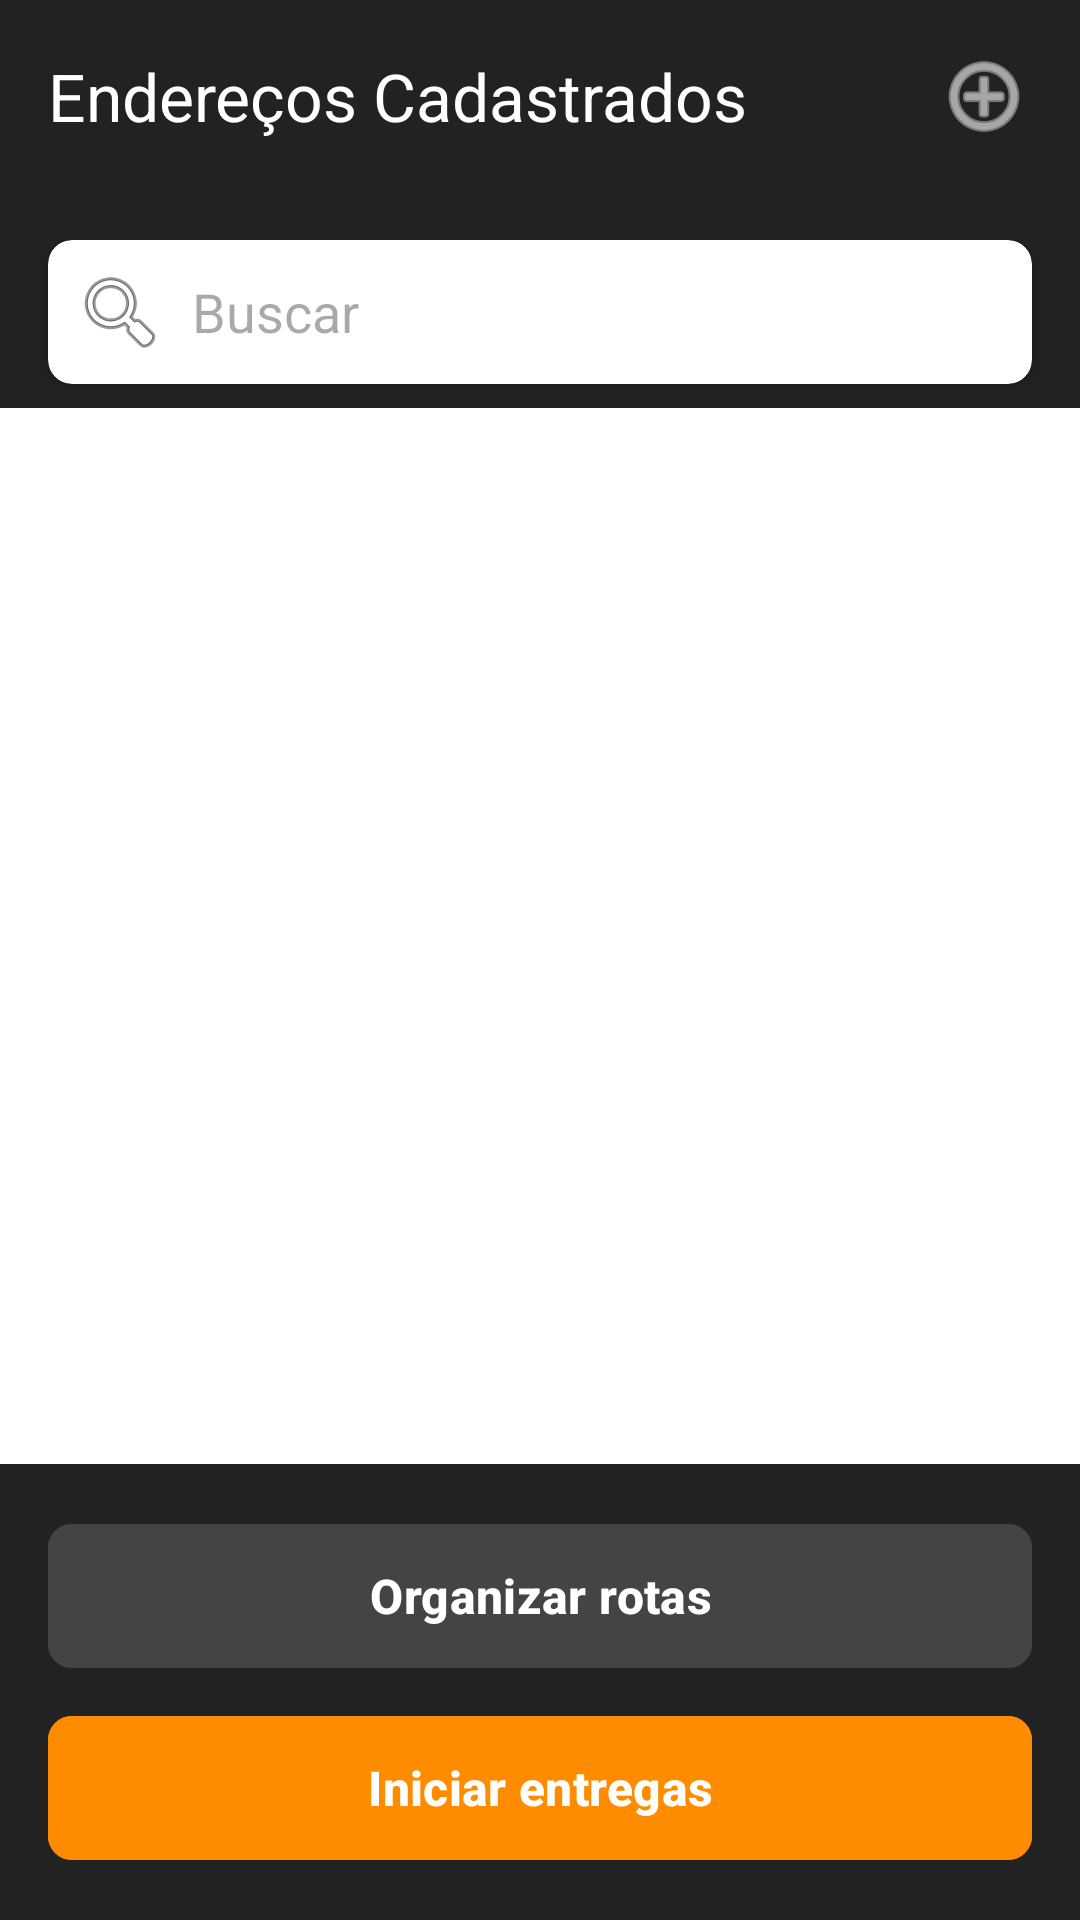

Named icons in this screenshot (1080×1920) and their bounding boxes, box(x1, y1, x2, y2):
Adicionar Endereço: box(948, 61, 1020, 132)
